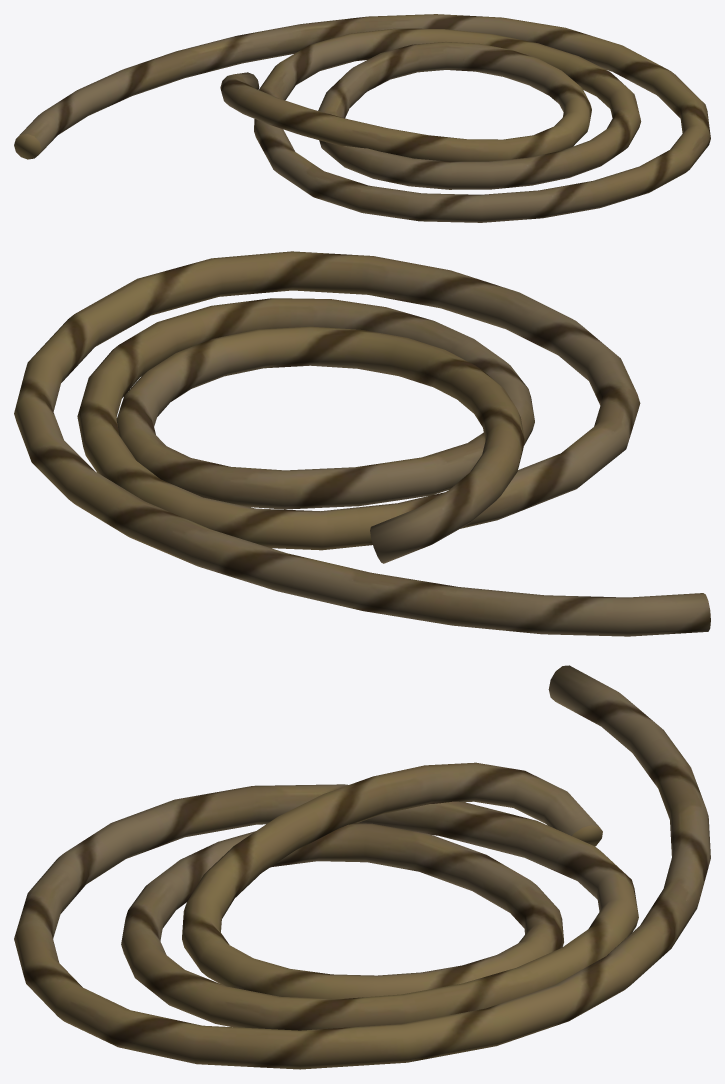
Rendered from Rope_3.gltf.
3 views of the same model, one above another, from view 1: azimuth 30°, elevation 25°; view 2: azimuth 150°, elevation 25°; view 3: azimuth 270°, elevation 25° (orthographic). The views are drawn at different scales.
Parts seen in each view (by area): view 1: Rope_3; view 2: Rope_3; view 3: Rope_3.
Boxes of the visible parts, <box> form: Rope_3: <box>14,14,710,222</box>; Rope_3: <box>14,251,710,636</box>; Rope_3: <box>14,665,710,1069</box>.
Size of the model in its own units: 1.23 by 0.1018 by 0.9508.
Materials: 1 (1 with a texture image).
